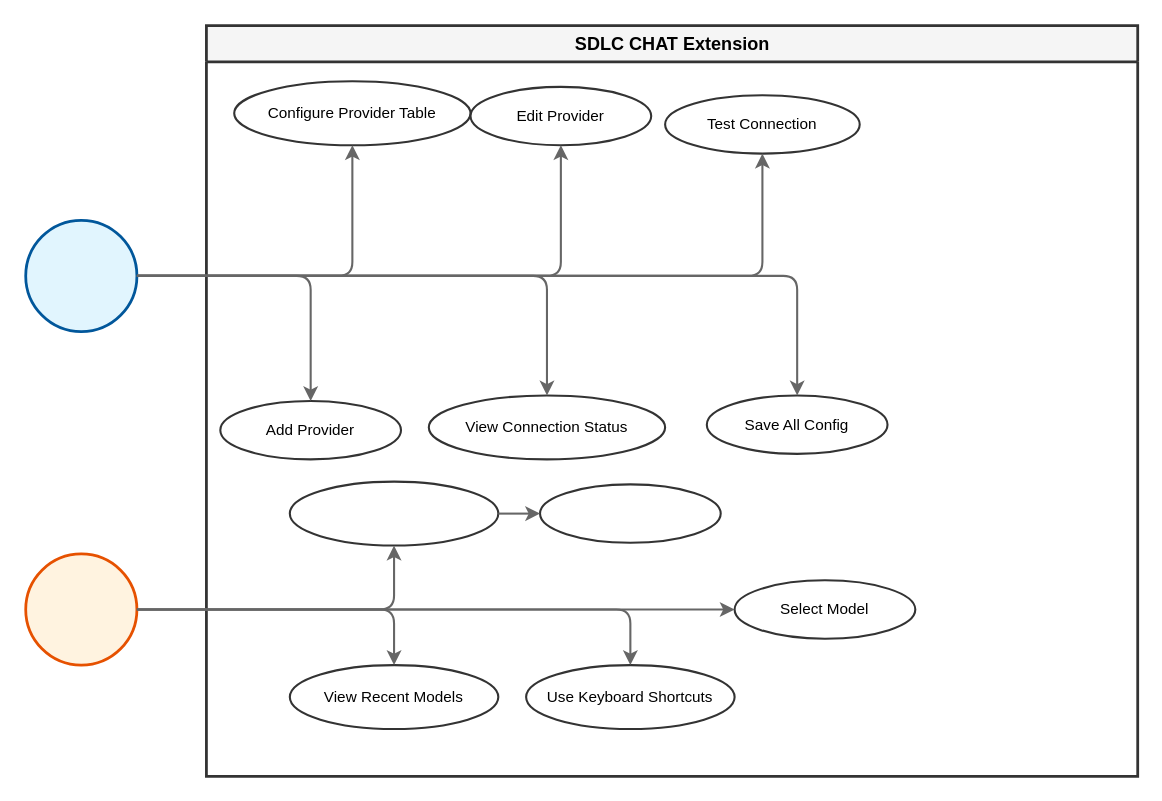
This 1162x801 diagram has some shape labels left out. Each missing label, with the centre of its shape:
"Chat User" belongs at [81,609].
"Developer" belongs at [81,275].
"Open Model Picker" belongs at [393,513].
"Search Models" belongs at [629,513].
